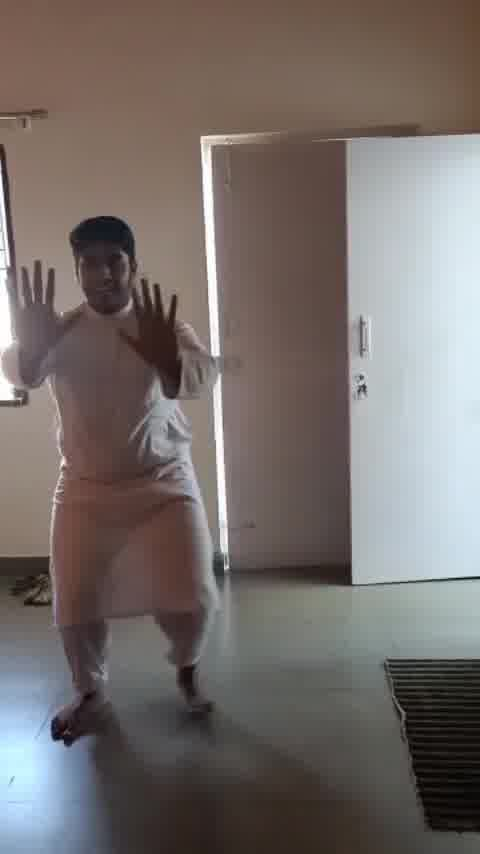duck: (3, 206, 249, 746)
